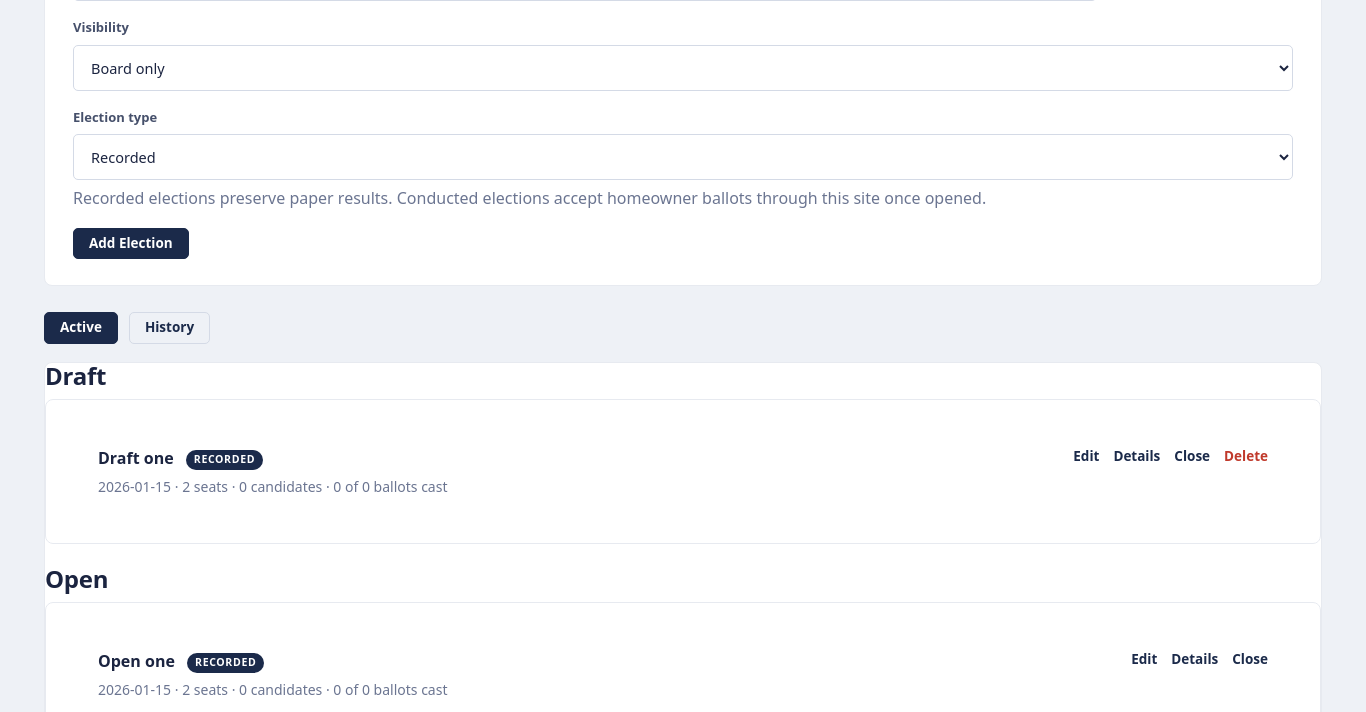
Scenario: ElectionsManager › keeps draft and open elections in Active and settled elections in History
(page scrolled)
Expected: the text "Draft one" is shown, [98,447,174,469]
Expected: the text "Open one" is shown, [98,650,175,672]
Click the button "History": (170, 328) [129,312,210,344]
(page scrolled)
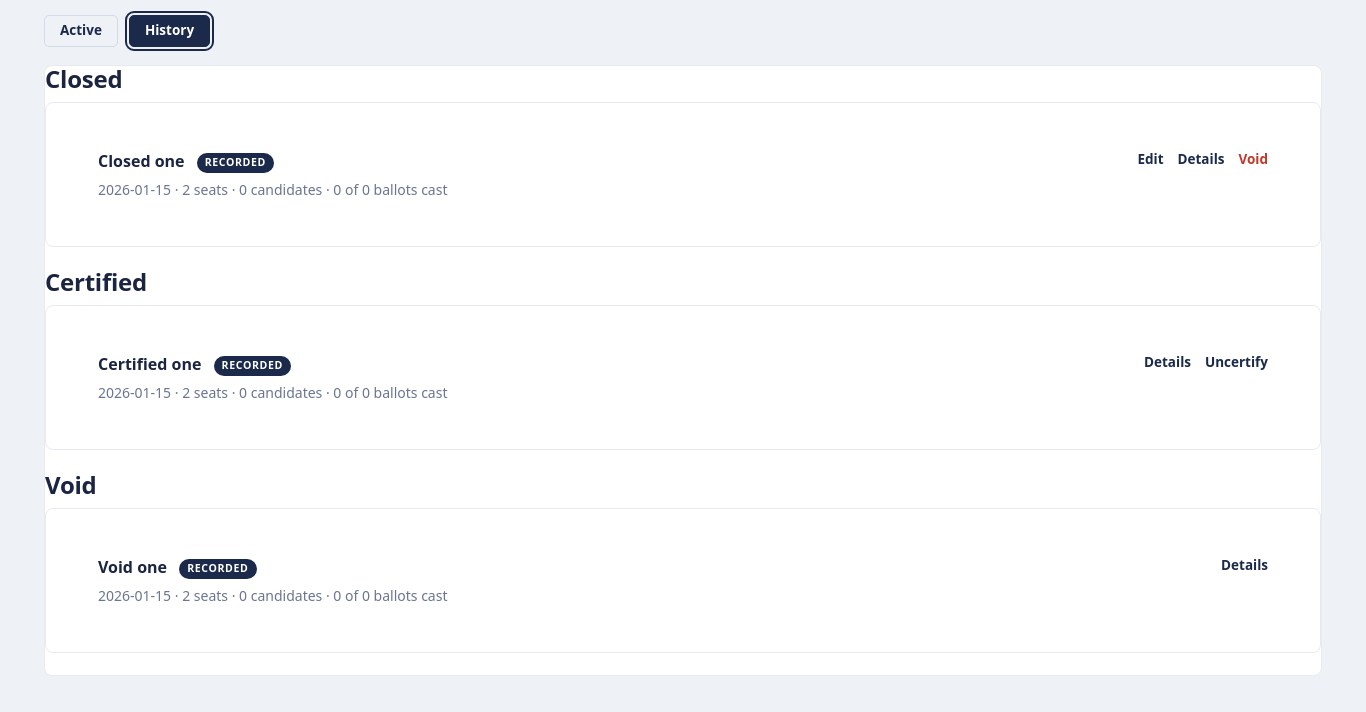
Expected: the text "Draft one" is gone
Expected: the text "Open one" is gone
Expected: the text "Closed one" is shown, [98,150,184,172]
